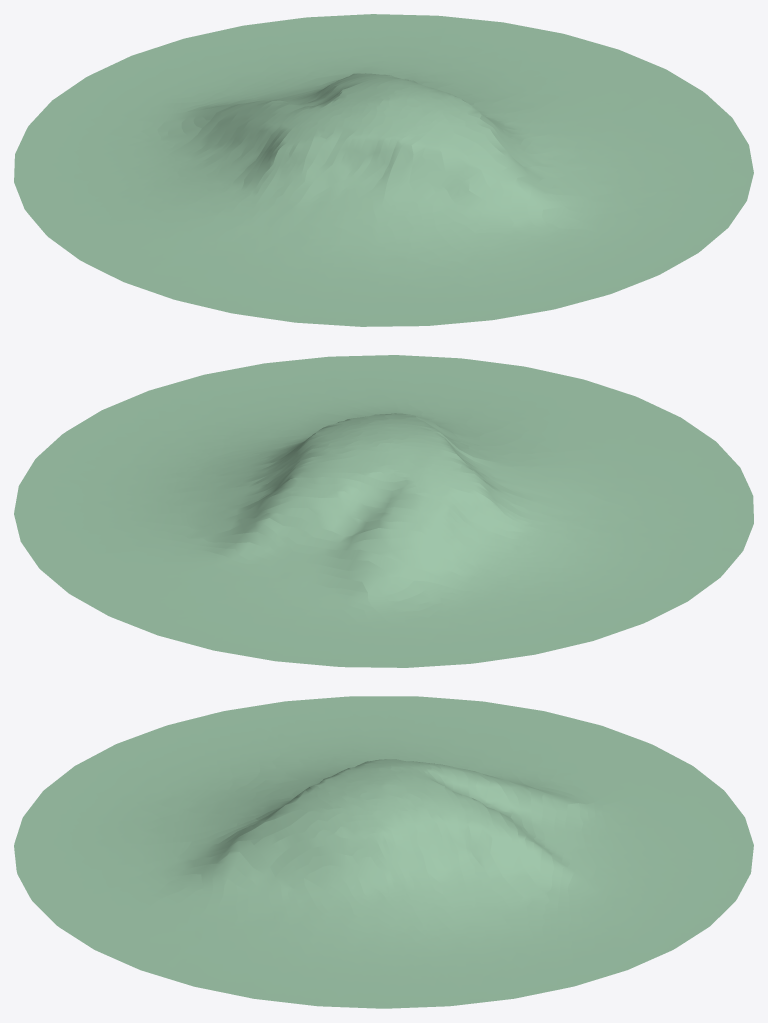
Rendered from island_coral_mini_A.fbx.
3 renders of one model, top to bottom at view 1: azimuth 30°, elevation 25°; view 2: azimuth 150°, elevation 25°; view 3: azimuth 270°, elevation 25°, orthographic.
Parts seen in each view (by area): view 1: island_coral_mini_A; view 2: island_coral_mini_A; view 3: island_coral_mini_A.
Boxes of the visible parts, x1=… form: island_coral_mini_A: x1=14, y1=14, x2=753, y2=326; island_coral_mini_A: x1=14, y1=355, x2=753, y2=667; island_coral_mini_A: x1=14, y1=696, x2=753, y2=1008.
Bounding box in the file's own units: 4490 × 463 × 4496.
